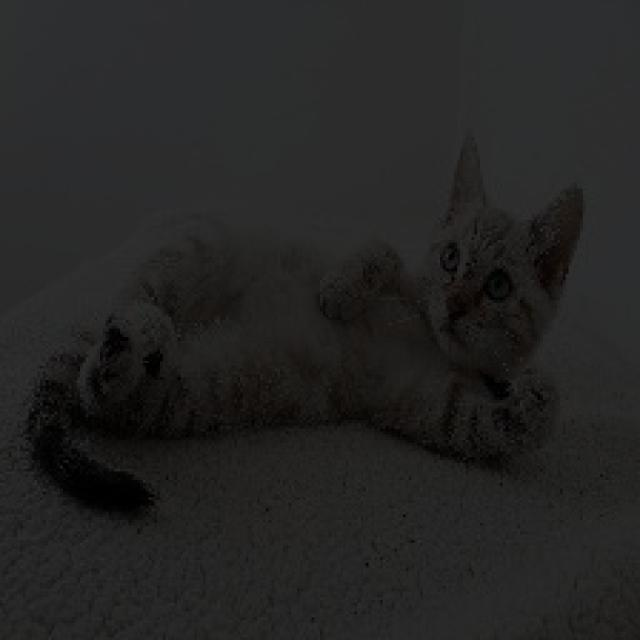animal: (33, 146, 597, 512)
